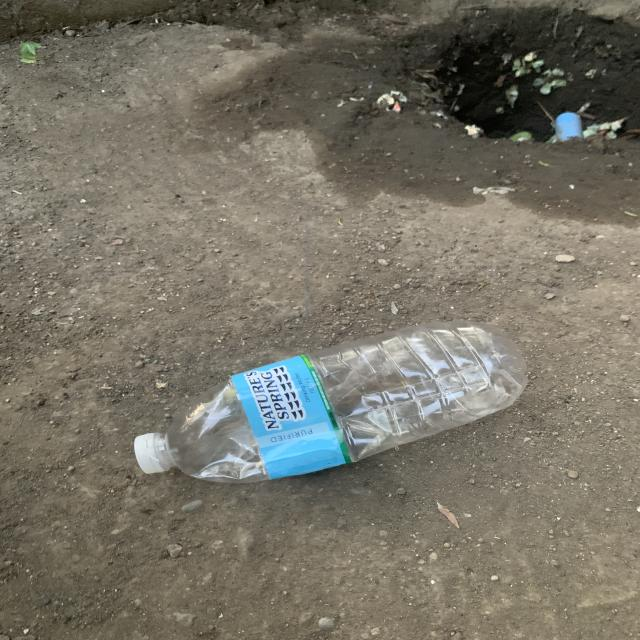Bottle: (135, 321, 526, 483)
